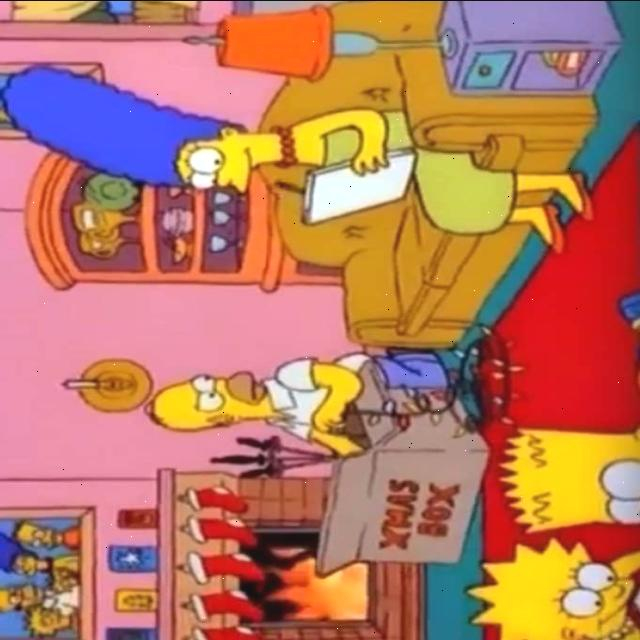Bart Simpson: (497, 422, 640, 538)
Homer Simpson: (144, 367, 286, 432)
Lisa Simpson: (463, 536, 639, 640)
Marge Simpson: (0, 60, 298, 194)
